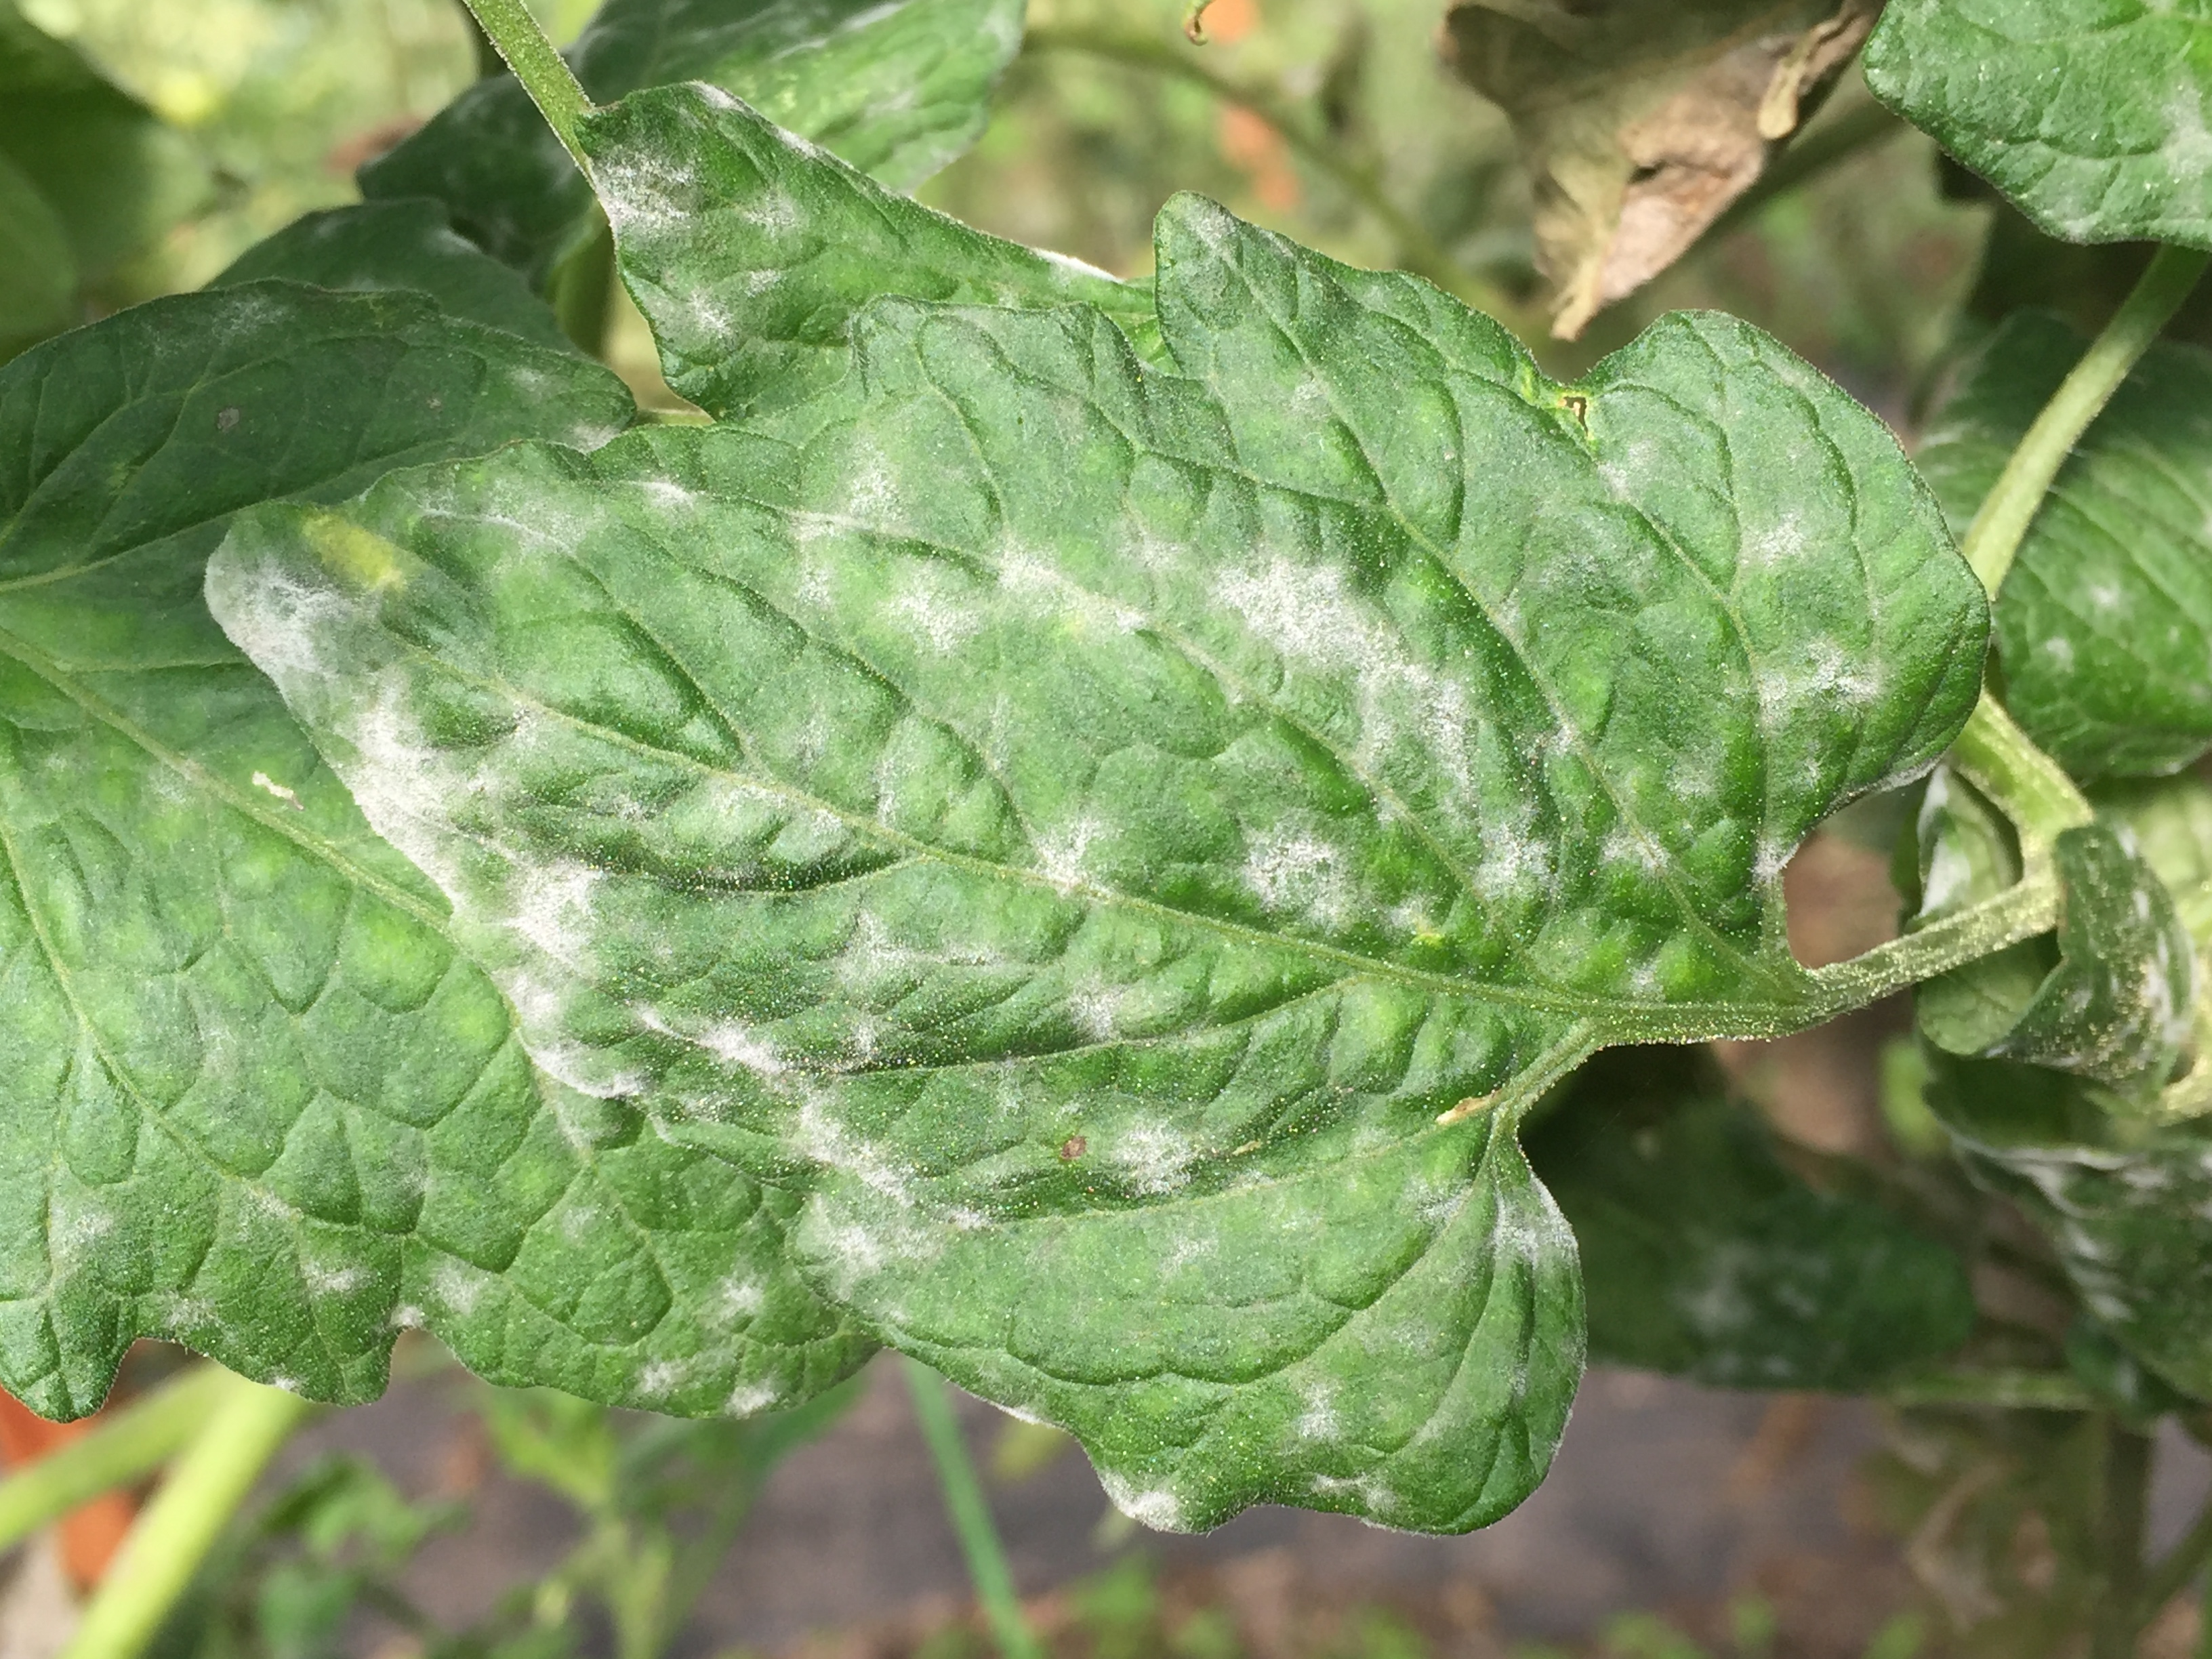blanca: (211, 551, 507, 857), (669, 1000, 956, 1227), (456, 854, 655, 1131), (665, 706, 948, 859), (1139, 509, 1345, 657), (890, 549, 1130, 662), (1350, 652, 1491, 814), (1230, 817, 1367, 945), (827, 913, 1021, 988), (796, 1234, 953, 1323), (484, 460, 604, 545), (1494, 1171, 1580, 1274), (1026, 805, 1116, 901), (406, 1251, 510, 1326), (1578, 430, 1660, 521), (1111, 1121, 1200, 1199), (773, 507, 838, 615), (840, 434, 914, 521), (1742, 643, 1813, 728), (1312, 1457, 1399, 1527), (1480, 821, 1552, 903), (1106, 1469, 1191, 1537), (1745, 500, 1813, 586), (1425, 1166, 1484, 1262), (40, 1195, 111, 1270), (1597, 810, 1670, 878), (146, 1290, 221, 1349), (134, 742, 193, 812), (1747, 817, 1803, 890), (1291, 1377, 1345, 1445), (291, 1253, 362, 1302), (632, 464, 693, 519), (1381, 887, 1433, 945), (625, 1347, 676, 1406), (1670, 735, 1716, 798), (714, 1272, 768, 1324), (721, 1370, 775, 1422), (1618, 958, 1667, 1004), (261, 1363, 312, 1399)
